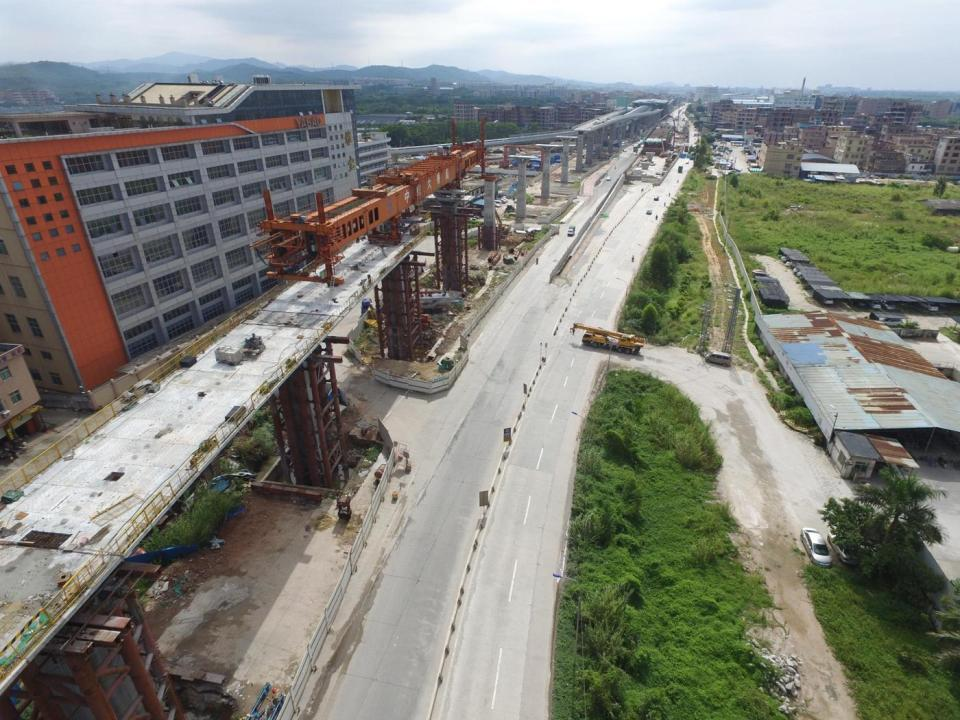car: (801, 527, 830, 569), (829, 530, 858, 564), (122, 379, 151, 403), (664, 178, 680, 206), (862, 292, 880, 308), (880, 292, 895, 311), (878, 316, 901, 327), (919, 298, 935, 312), (820, 289, 833, 306), (852, 293, 865, 309), (754, 271, 770, 282), (751, 268, 767, 279), (496, 199, 506, 204), (501, 197, 508, 203), (513, 198, 520, 204), (491, 203, 501, 207), (646, 209, 651, 215), (653, 196, 659, 200), (656, 213, 659, 221), (631, 255, 634, 262), (606, 177, 610, 181), (686, 160, 689, 164), (622, 149, 626, 151)
truck: (603, 141, 618, 149), (568, 226, 575, 237), (634, 142, 639, 152), (690, 152, 696, 160), (684, 144, 689, 152), (678, 166, 683, 173)
van: (706, 351, 732, 368), (492, 199, 502, 206)
